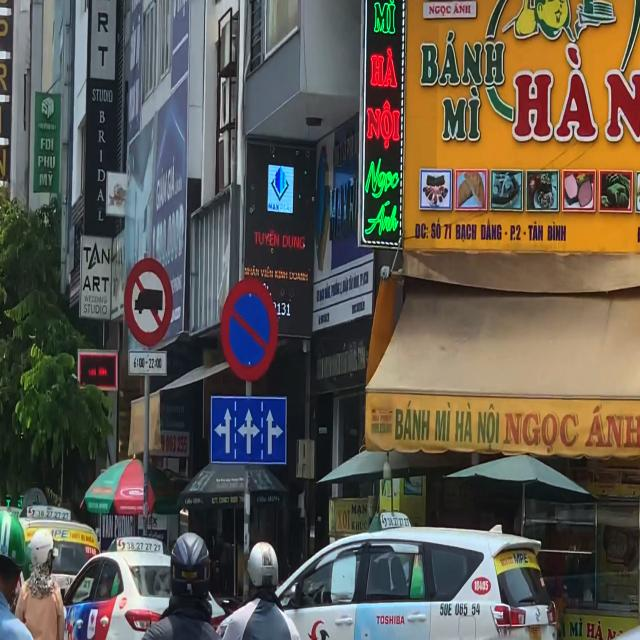Cam con lai: (124, 258, 173, 348)
Cam do: (220, 278, 278, 381)
